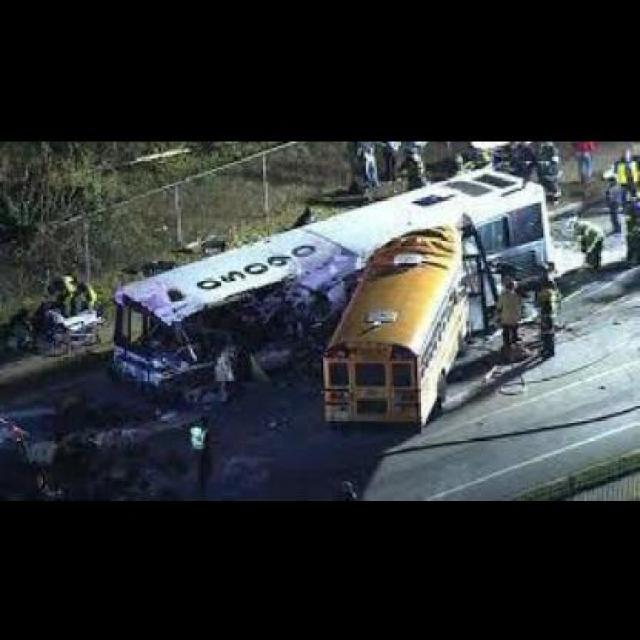accident: (105, 167, 562, 430)
